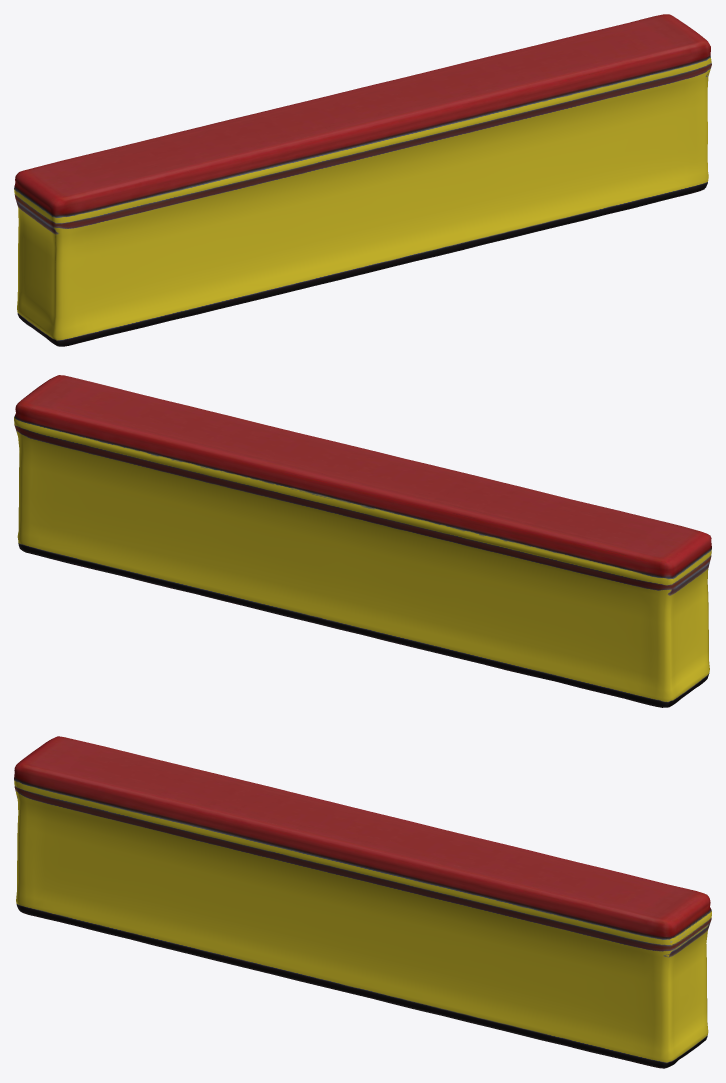
Rendered from BarraNw.obj.
3 views of the same model, one above another, from view 1: azimuth 30°, elevation 25°; view 2: azimuth 150°, elevation 25°; view 3: azimuth 330°, elevation 25° (orthographic).
Visible parts, largest first — view 1: fd8c783843f5_Barra_de_restaurant:Mesh; view 2: fd8c783843f5_Barra_de_restaurant:Mesh; view 3: fd8c783843f5_Barra_de_restaurant:Mesh.
Boxes of the visible parts, x1,y1,x2,y2 form: fd8c783843f5_Barra_de_restaurant:Mesh: [14, 14, 711, 346]; fd8c783843f5_Barra_de_restaurant:Mesh: [14, 375, 711, 707]; fd8c783843f5_Barra_de_restaurant:Mesh: [14, 736, 711, 1068].
Size of the model in its own units: 1.82 by 0.3918 by 0.2282.
1 material, 1 textured.
